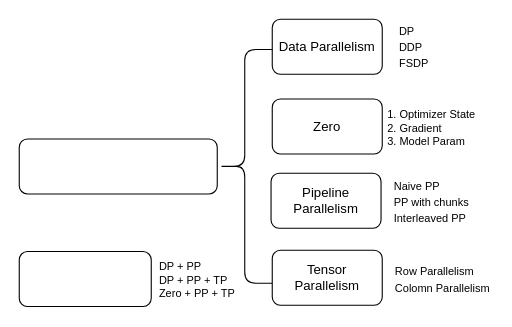
The diagram is 512 pixels wide and 327 high, and some of its shapes have lost their labels. The box of each missing label's shape, as (x1, y1, x2, y2) in pixels:
Distribution Training Strategy: (18, 138, 217, 194)
Strategy Instance: (18, 250, 151, 307)
